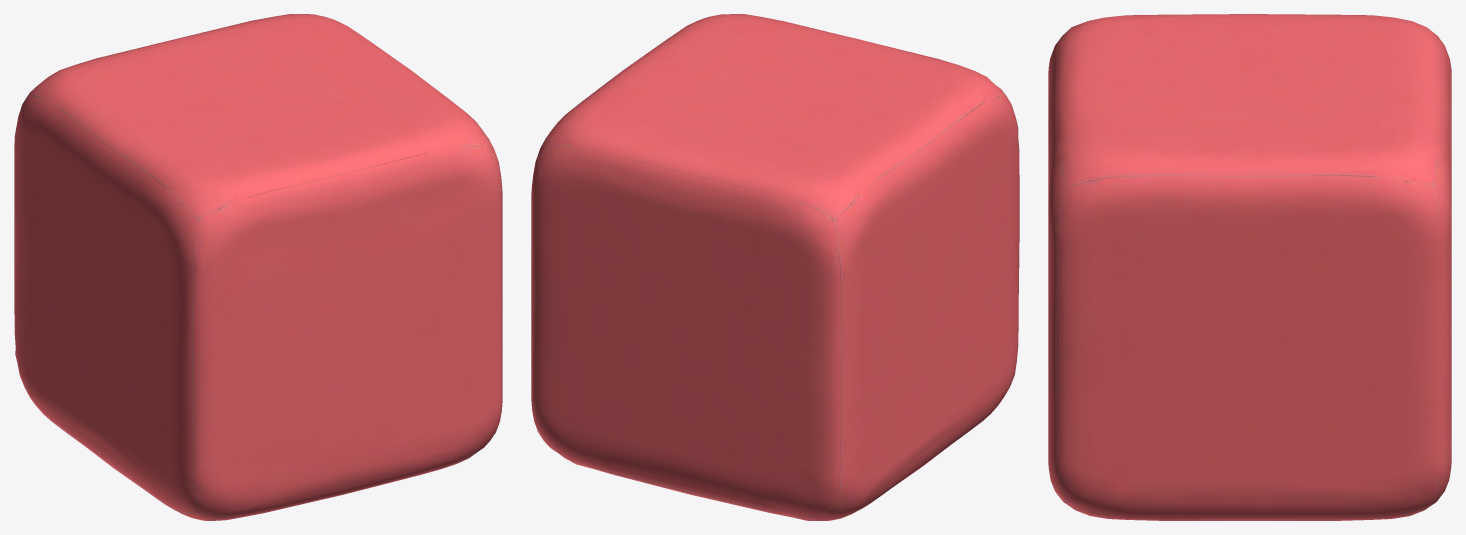
Rendered from soft_block_red.glb.
The picture shows the model from 3 angles, left to right: view 1: azimuth 30°, elevation 25°; view 2: azimuth 150°, elevation 25°; view 3: azimuth 270°, elevation 25°; orthographic projection. The views are drawn at different scales.
Size of what is drawn, in the model's own units: 0.9872 by 1 by 1.
1 material, 1 textured.
